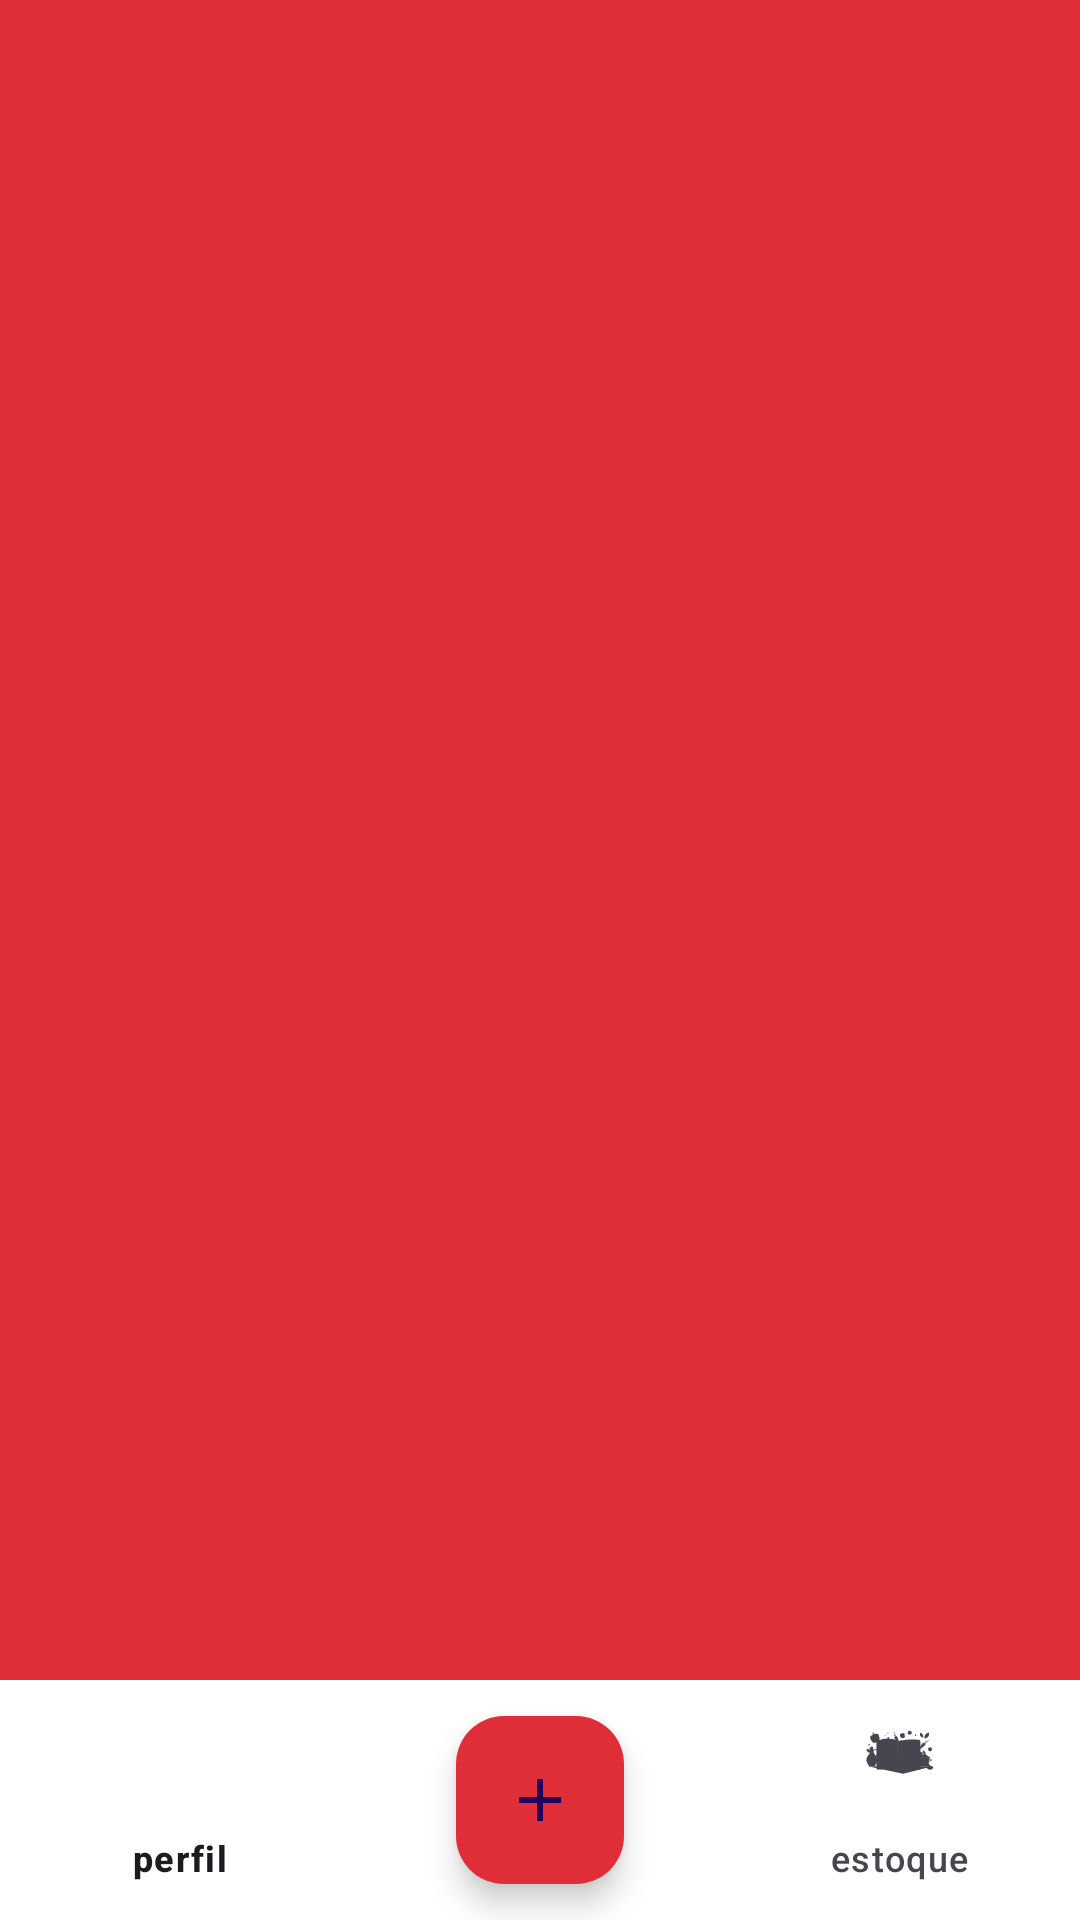

Screen size 1080 × 1920. Icon name, then its box in pixels as [x1, y1, x2, y2]:
add: [456, 1716, 624, 1884]
